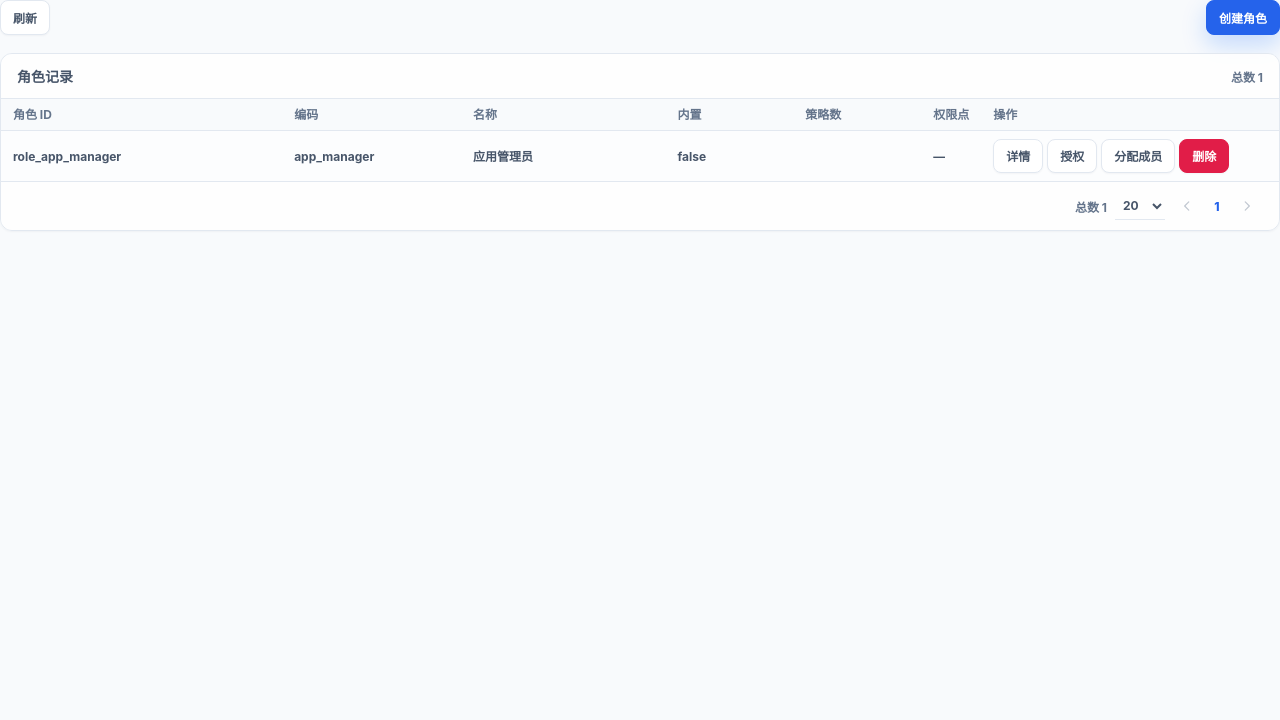
Test: RolesView › 隐藏兼容外部用户角色，并只显示四个业务授权域
This screenshot has width=1280, height=720.
Click the button "创建角色" at [1243, 18], box [1206,0,1279,35]
(page scrolled)
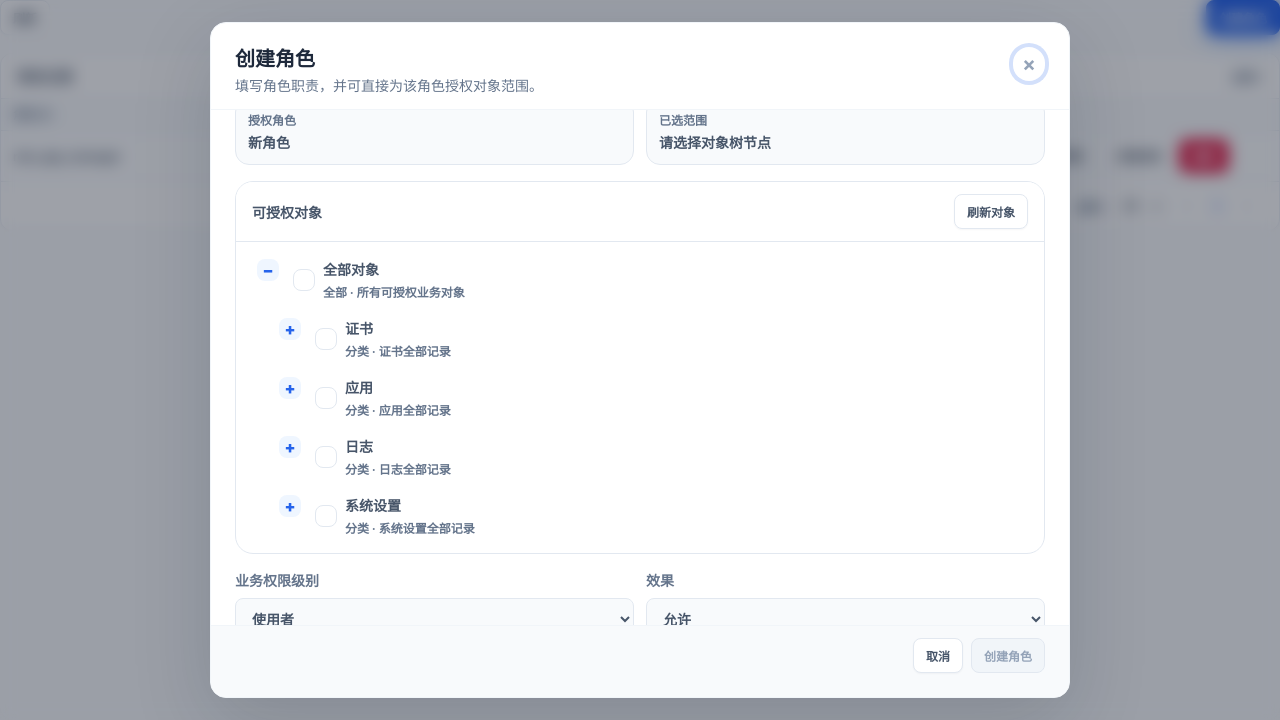
Expected: the element with class "roles-view__object-tree" shows "证书", [244,309,1036,368]
Expected: the element with class "roles-view__object-tree" shows "应用", [244,368,1036,427]
Expected: the element with class "roles-view__object-tree" shows "日志", [244,427,1036,486]
